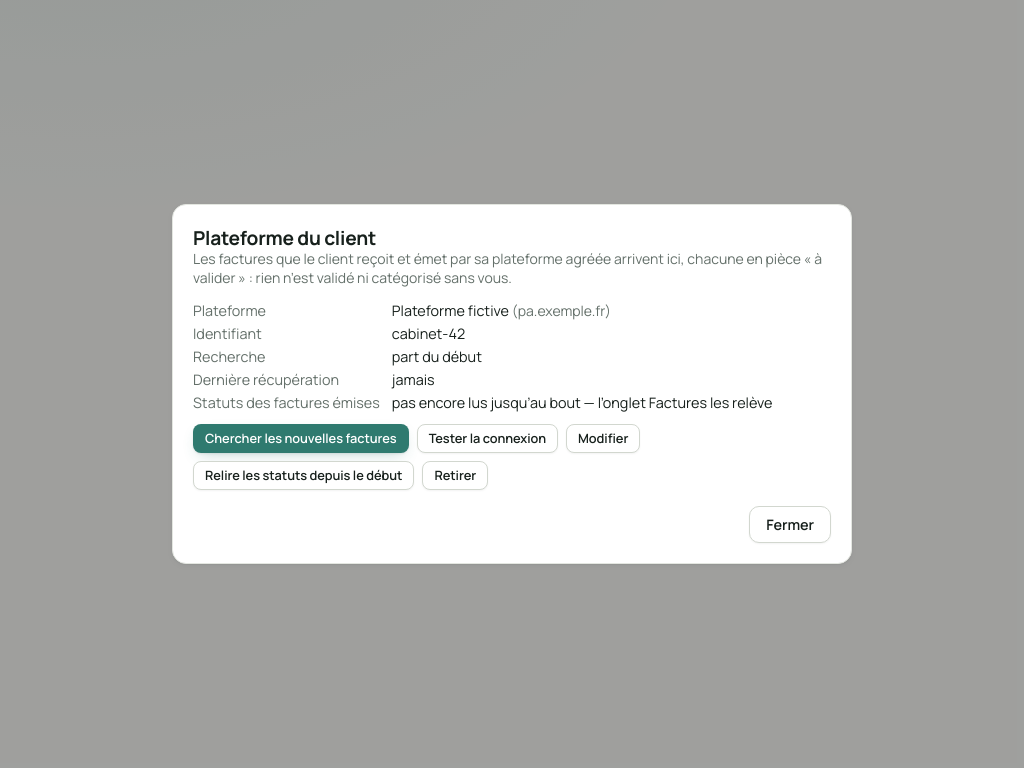
it: tester la connexion › sur un clic seulement, et la réponse se dit
The width and height of the screenshot is (1024, 768).
Click the button "Tester la connexion": {"x": 487, "y": 438} [417,424,558,453]
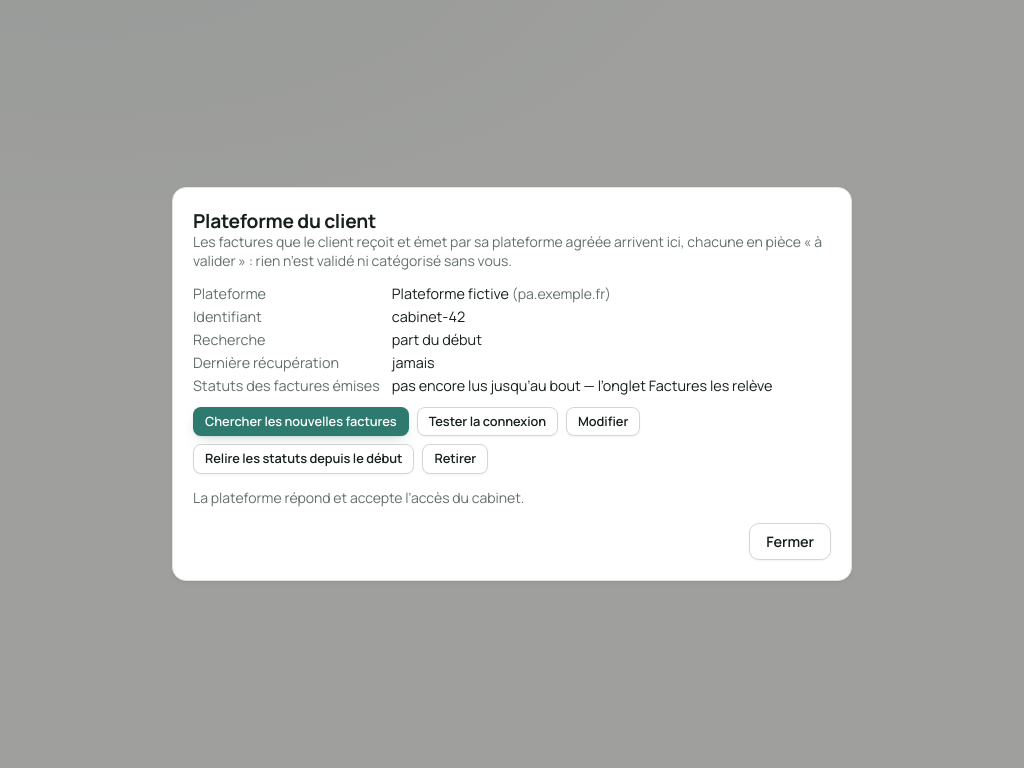
Check: the text "La plateforme répond et accepte l’accès du cabinet." is shown, box [193,488,524,507]
Click the button "Tester la connexion": {"x": 487, "y": 422} [417,407,558,436]
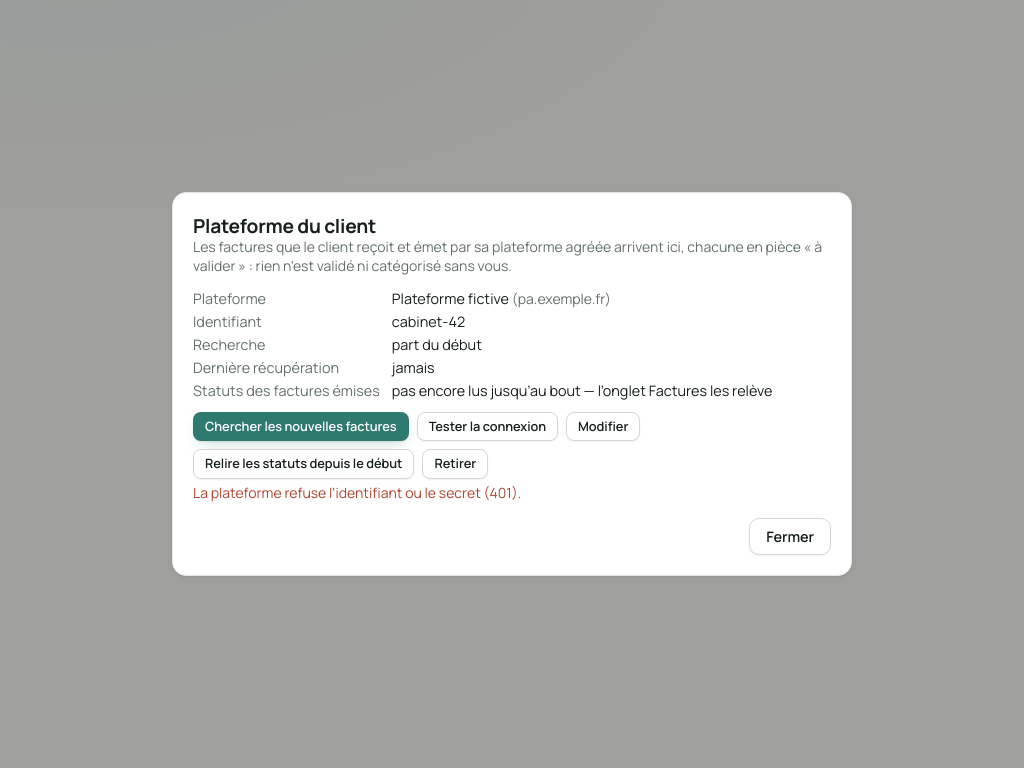
Check: the text "La plateforme refuse l’identifiant ou le secret (401)." is shown, box [193,483,521,502]
